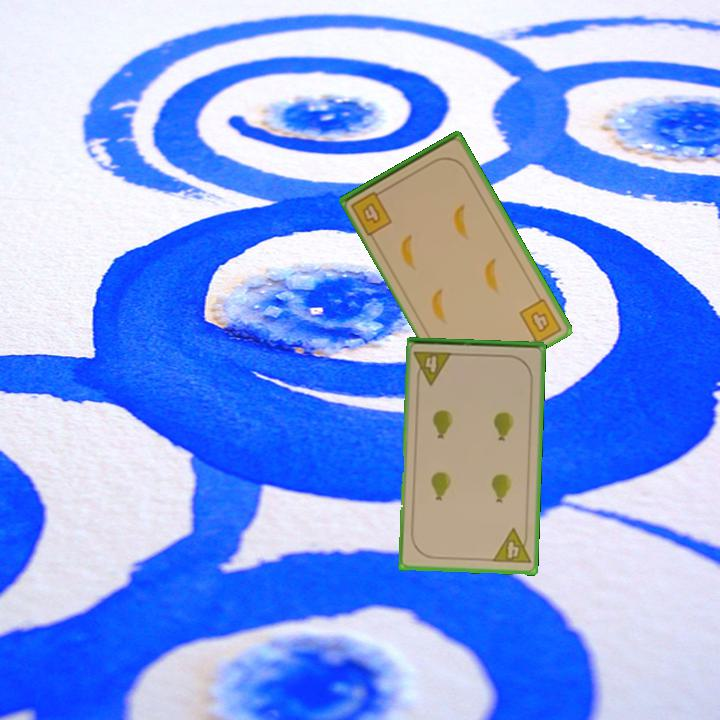4b: (516, 295, 564, 348), (347, 185, 395, 238)
4p: (489, 525, 533, 567), (410, 347, 455, 387)
